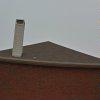Chimney: (8, 12, 33, 68)
